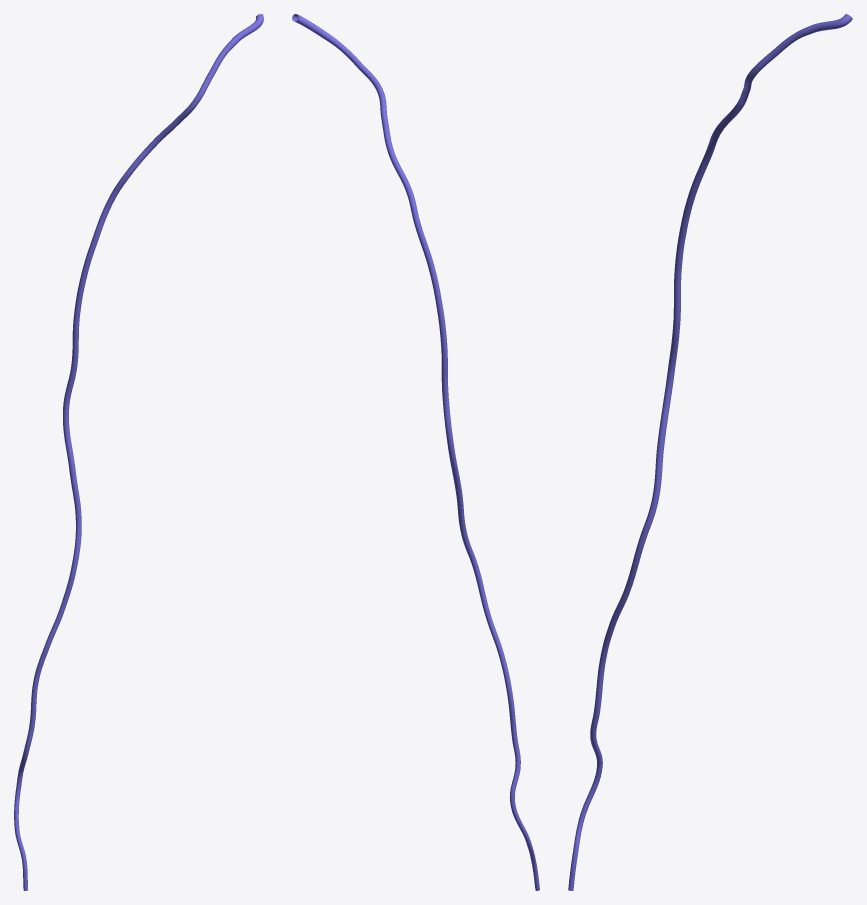
The model's file is Cephalic_vein.r_BezierCurve.295.glb.
3 views of the same model, side by side, from view 1: azimuth 30°, elevation 25°; view 2: azimuth 150°, elevation 25°; view 3: azimuth 330°, elevation 25° (orthographic). The views are drawn at different scales.
Parts seen in each view (by area): view 1: Cephalic_vein.r_BezierCurve.295; view 2: Cephalic_vein.r_BezierCurve.295; view 3: Cephalic_vein.r_BezierCurve.295.
Boxes of the visible parts, x1,y1,x2,y2 form: Cephalic_vein.r_BezierCurve.295: (14, 14, 263, 890); Cephalic_vein.r_BezierCurve.295: (292, 14, 539, 890); Cephalic_vein.r_BezierCurve.295: (568, 14, 852, 890).
Size of the model in its own units: 0.1781 by 0.5721 by 0.0418.
